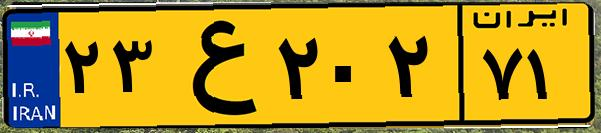0: (330, 28, 385, 110)
1: (525, 38, 570, 115)
2: (270, 28, 330, 110), (385, 28, 445, 110), (57, 26, 110, 100)
3: (110, 28, 158, 98)
7: (475, 38, 525, 113)
ع: (158, 12, 270, 120)
